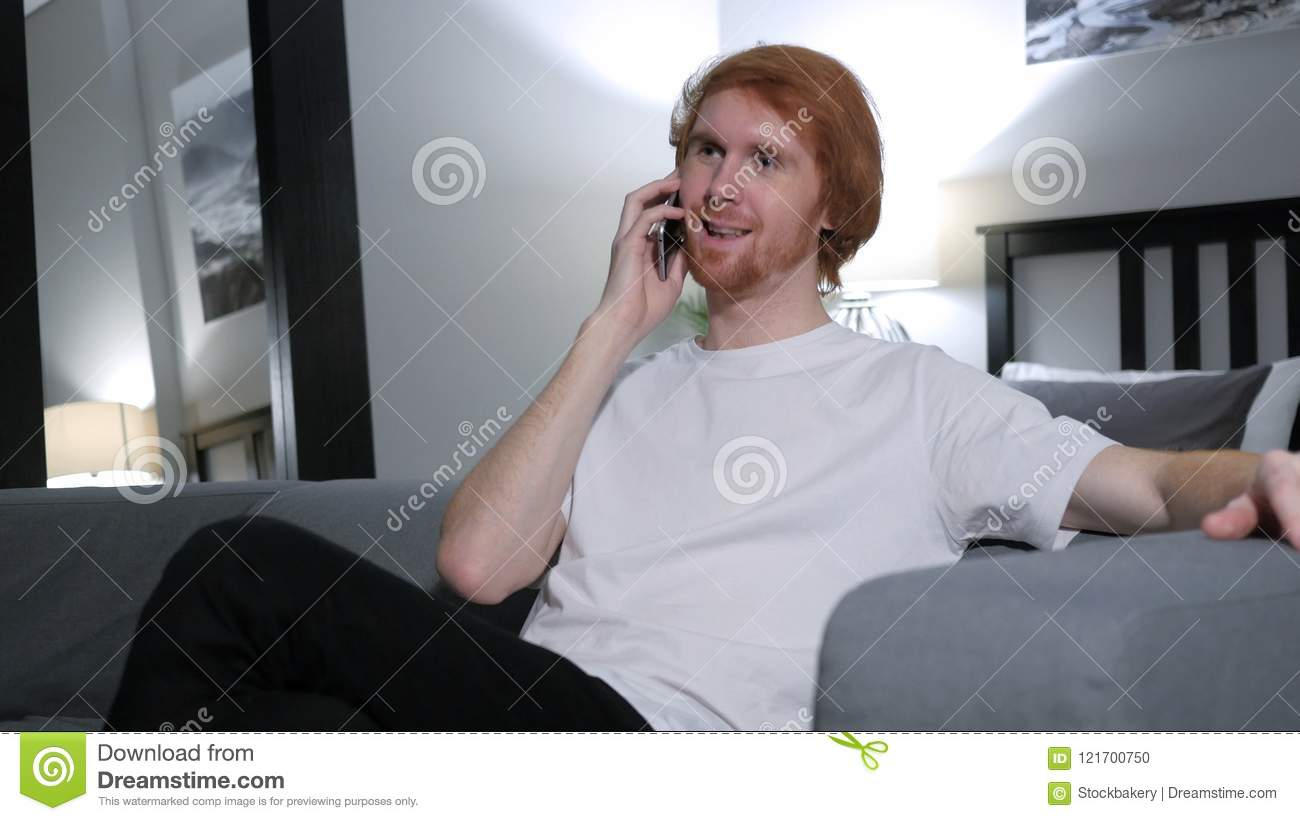phone: (657, 178, 684, 290)
talk: (605, 125, 808, 368)
